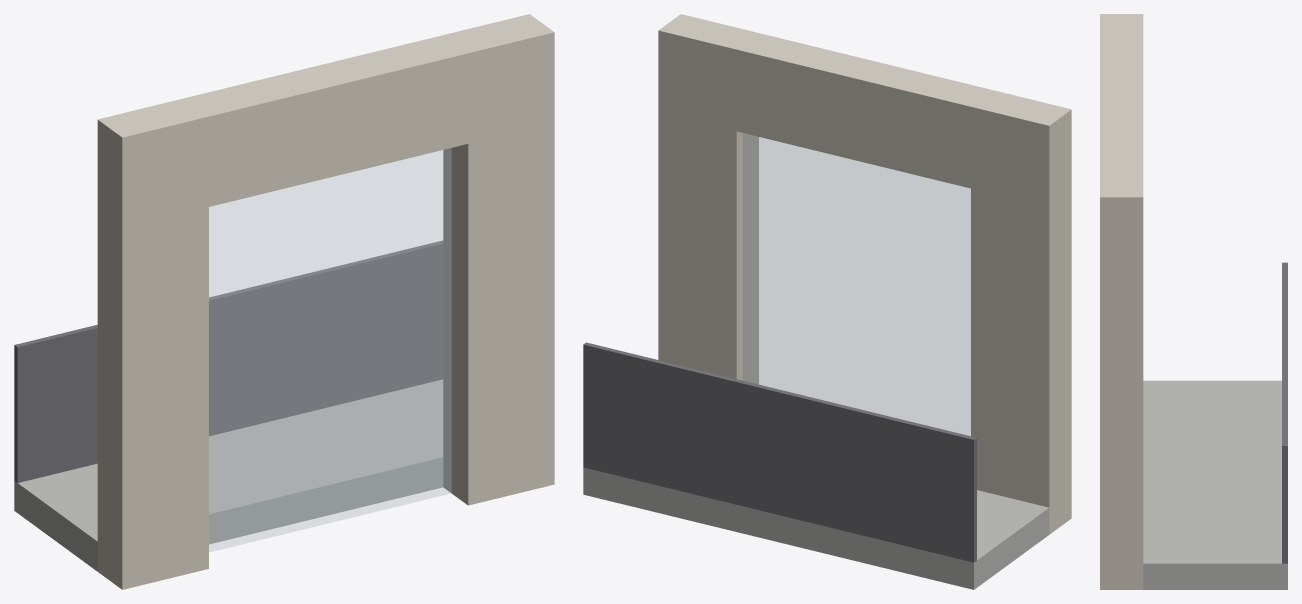
File: fac_stone_balcony.glb
3 renders of one model, left to right at view 1: azimuth 30°, elevation 25°; view 2: azimuth 150°, elevation 25°; view 3: azimuth 270°, elevation 25°, orthographic. The views are drawn at different scales.
Parts seen in each view (by area): view 1: fac_stone_balcony; view 2: fac_stone_balcony; view 3: fac_stone_balcony.
Part boxes in pixels (x1,y1,x2,y2): fac_stone_balcony: (14, 14, 554, 589); fac_stone_balcony: (583, 14, 1071, 589); fac_stone_balcony: (1100, 14, 1287, 589).
Size of what is drawn, in the model's own units: 3 by 3 by 1.3.
